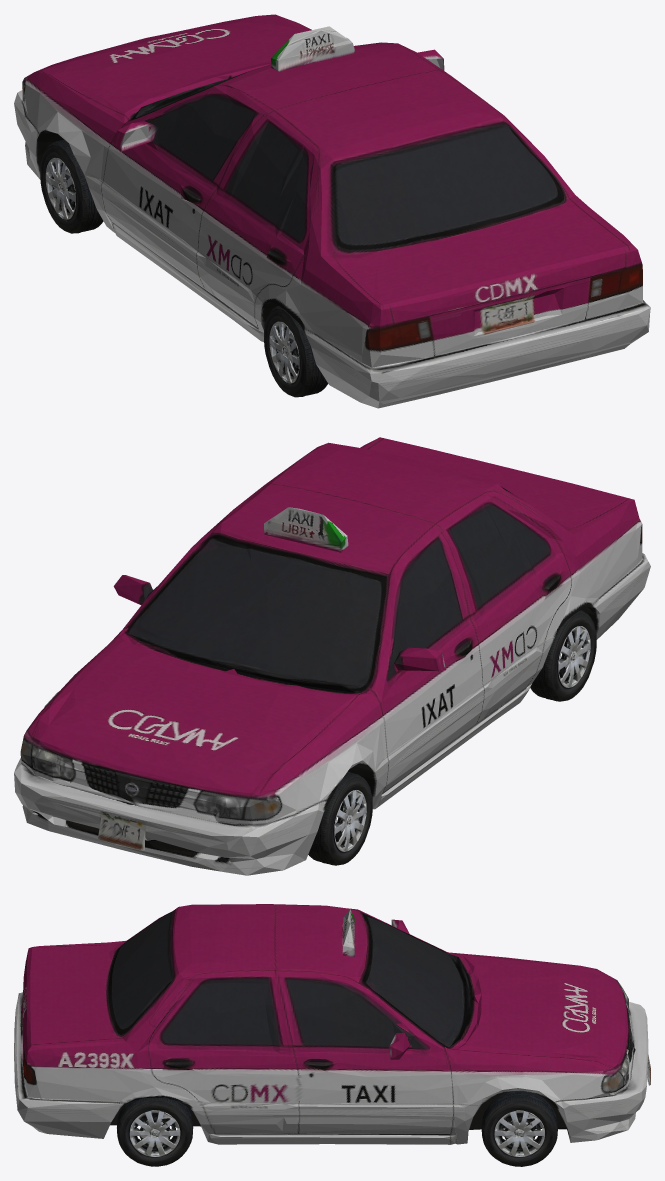
The model's file is taxi tsuru.glb.
The picture shows the model from 3 angles, top to bottom: view 1: azimuth 30°, elevation 25°; view 2: azimuth 150°, elevation 25°; view 3: azimuth 270°, elevation 25°; orthographic projection. The views are drawn at different scales.
Visible parts, largest first — view 1: chasis, Wheel_FL, Wheel_RL; view 2: chasis, Wheel_FL, Wheel_RL; view 3: chasis, Wheel_FR, Wheel_RR.
Part boxes in pixels (x1=…): chasis: x1=14, y1=14, x2=650, y2=408; Wheel_FL: x1=40, y1=139, x2=103, y2=233; Wheel_RL: x1=264, y1=306, x2=327, y2=397; chasis: x1=14, y1=437, x2=650, y2=875; Wheel_FL: x1=308, y1=771, x2=372, y2=865; Wheel_RL: x1=530, y1=610, x2=596, y2=701; chasis: x1=14, y1=904, x2=650, y2=1144; Wheel_FR: x1=481, y1=1091, x2=557, y2=1166; Wheel_RR: x1=117, y1=1097, x2=193, y2=1166.
Size of the model in its own units: 0.4773 by 0.3383 by 1.
Materials: 5 (5 with a texture image).
